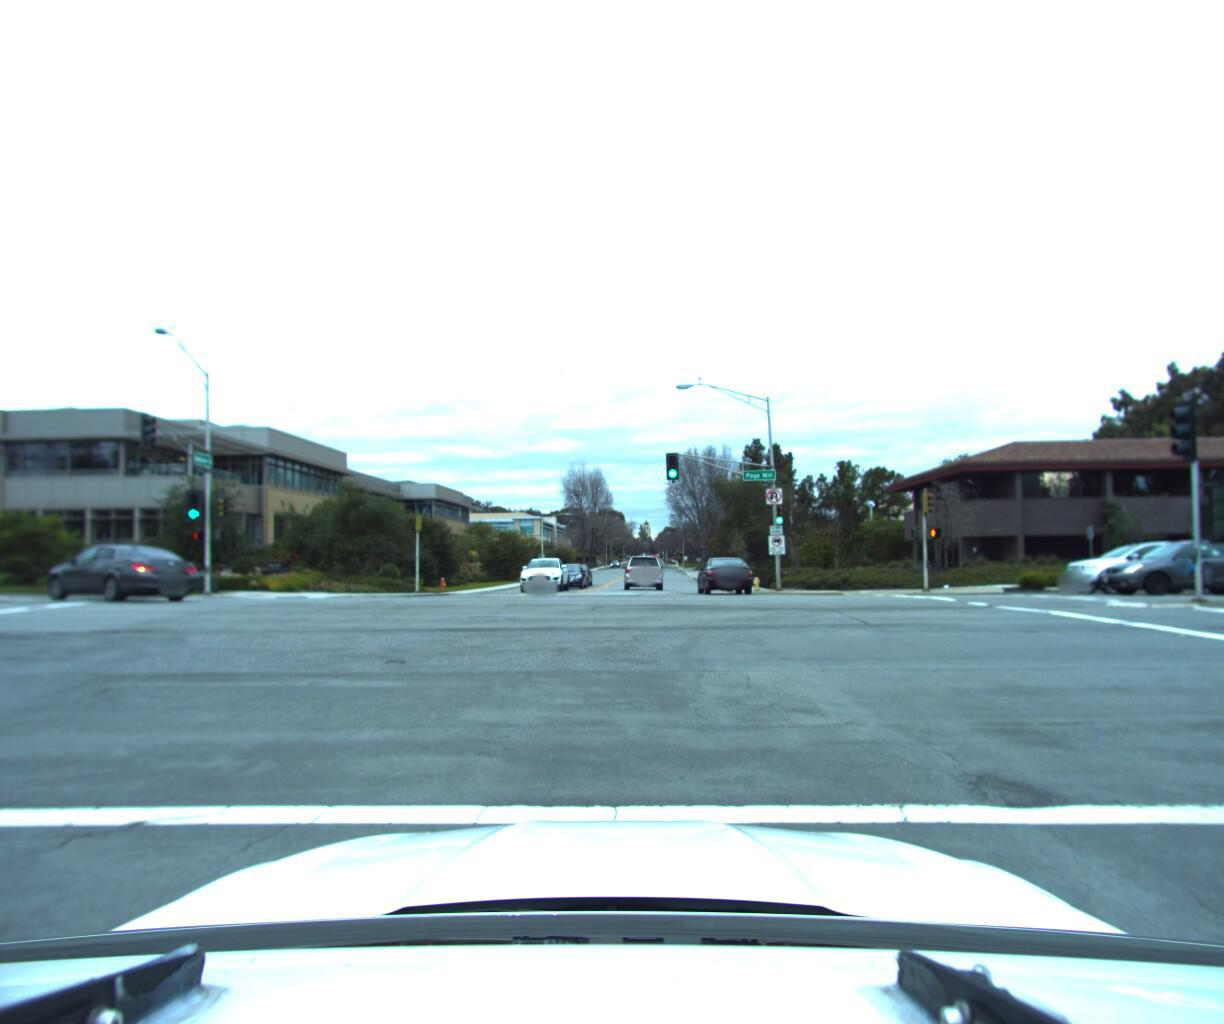car: (47, 542, 205, 607), (1046, 530, 1224, 588), (1085, 529, 1224, 591), (695, 547, 756, 590), (518, 554, 572, 591), (623, 548, 666, 584), (549, 560, 592, 590)
